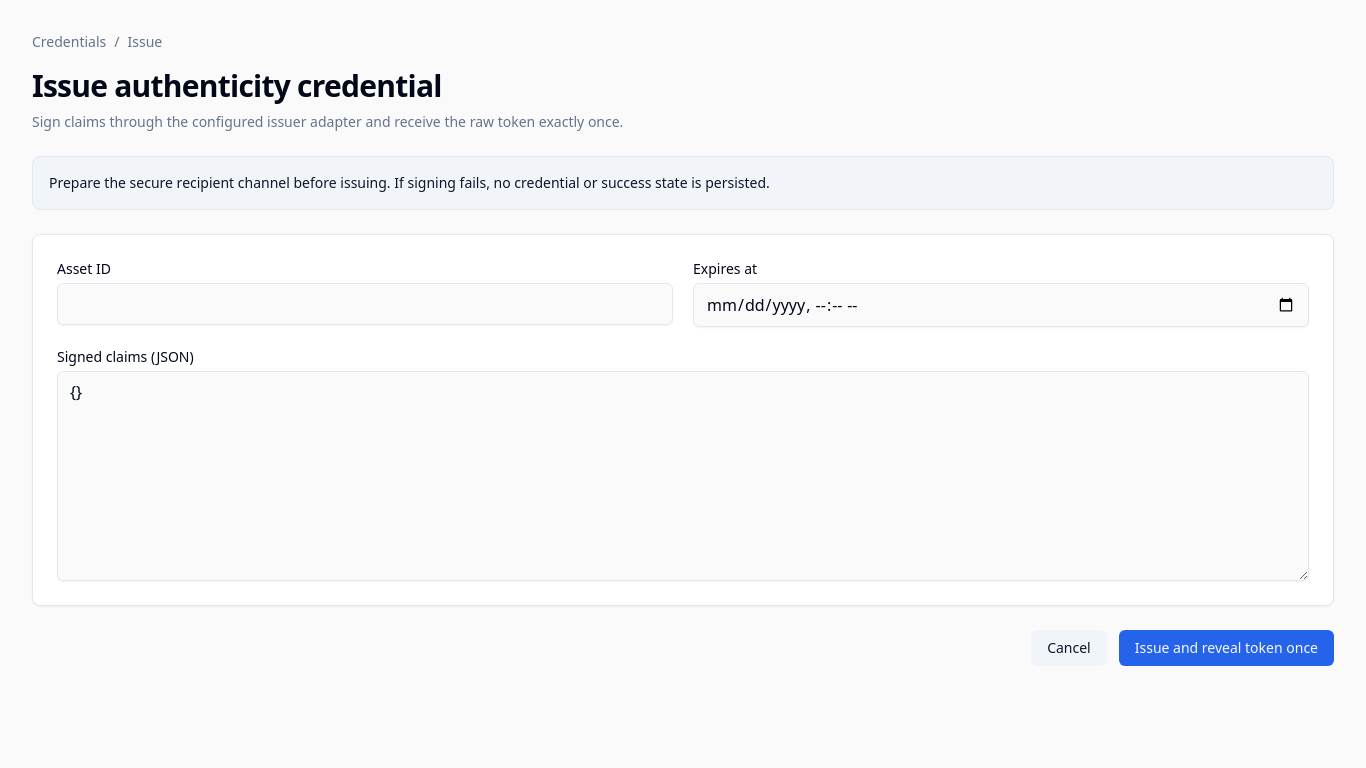
Test: blockchain traceability UX safeguards › shows the authenticity token only in the explicit one-time handoff
In the field labelled "Asset ID": (365, 304) top-left (57, 283), bottom-right (673, 325), type "asset-1"
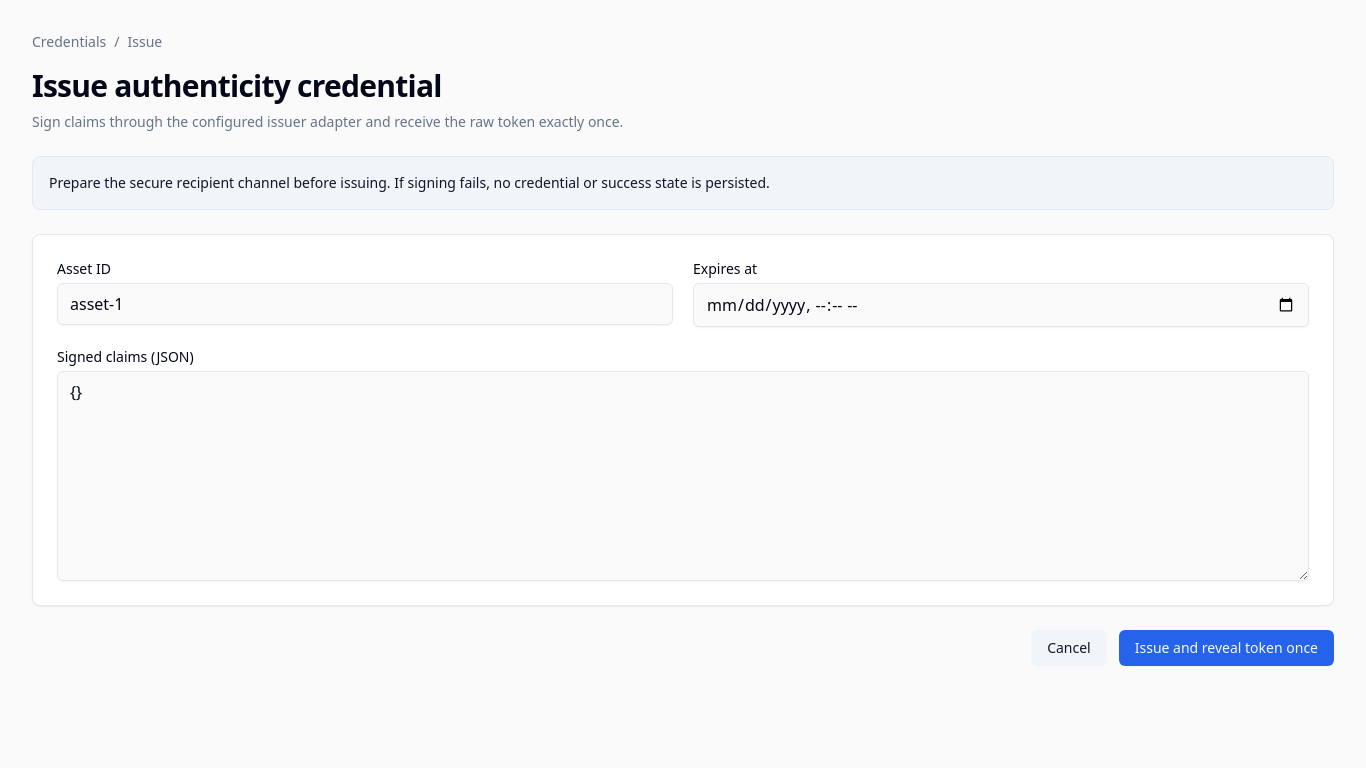
Click the button "Issue and reveal token once": click(1226, 648) top-left (1119, 630), bottom-right (1334, 666)
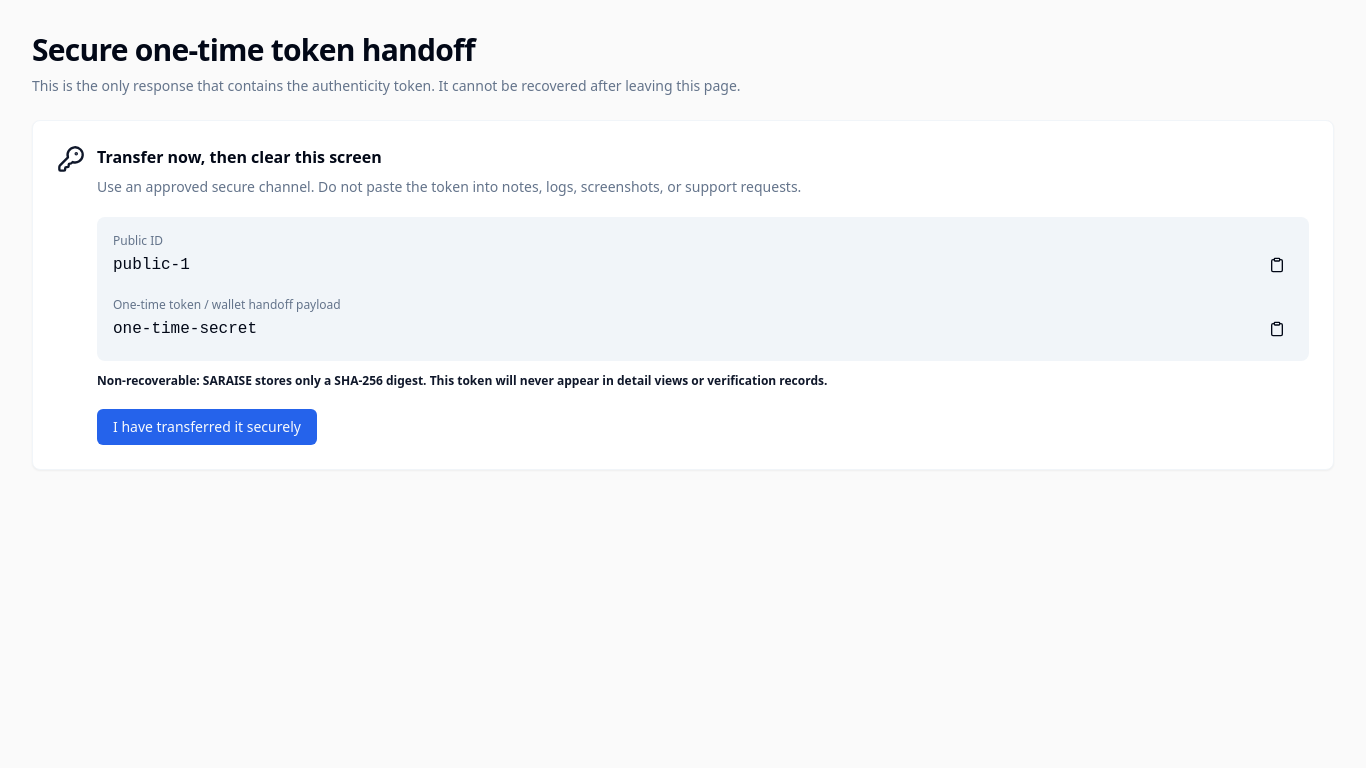
Result: the heading "Secure one-time token handoff" is shown at top-left (32, 29), bottom-right (475, 70)
Result: the text "one-time-secret" is shown at top-left (113, 320), bottom-right (257, 338)
Result: the text "Non-recoverable" is shown at top-left (97, 372), bottom-right (827, 389)
